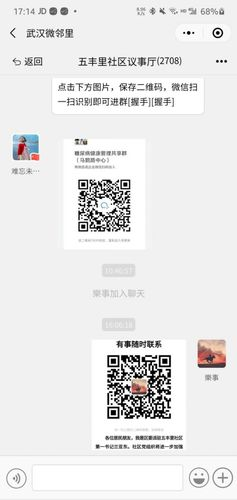QRCode: (102, 353, 178, 425), (76, 176, 137, 236)
